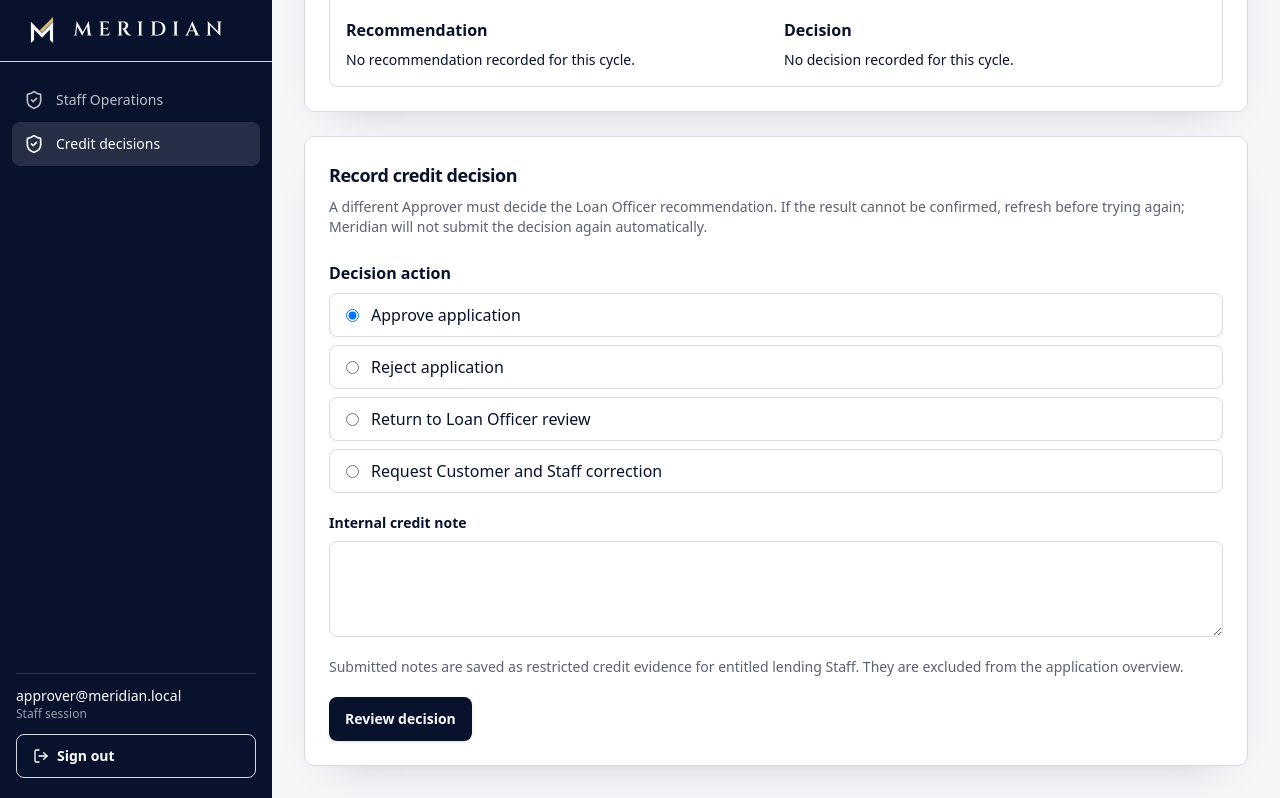
Test: Staff decision workspace › shows linked earlier cycles separately while confirming only the current expected identities
The width and height of the screenshot is (1280, 798).
(page scrolled)
Click the button "Review decision" at (400, 719), box [329,697,472,741]
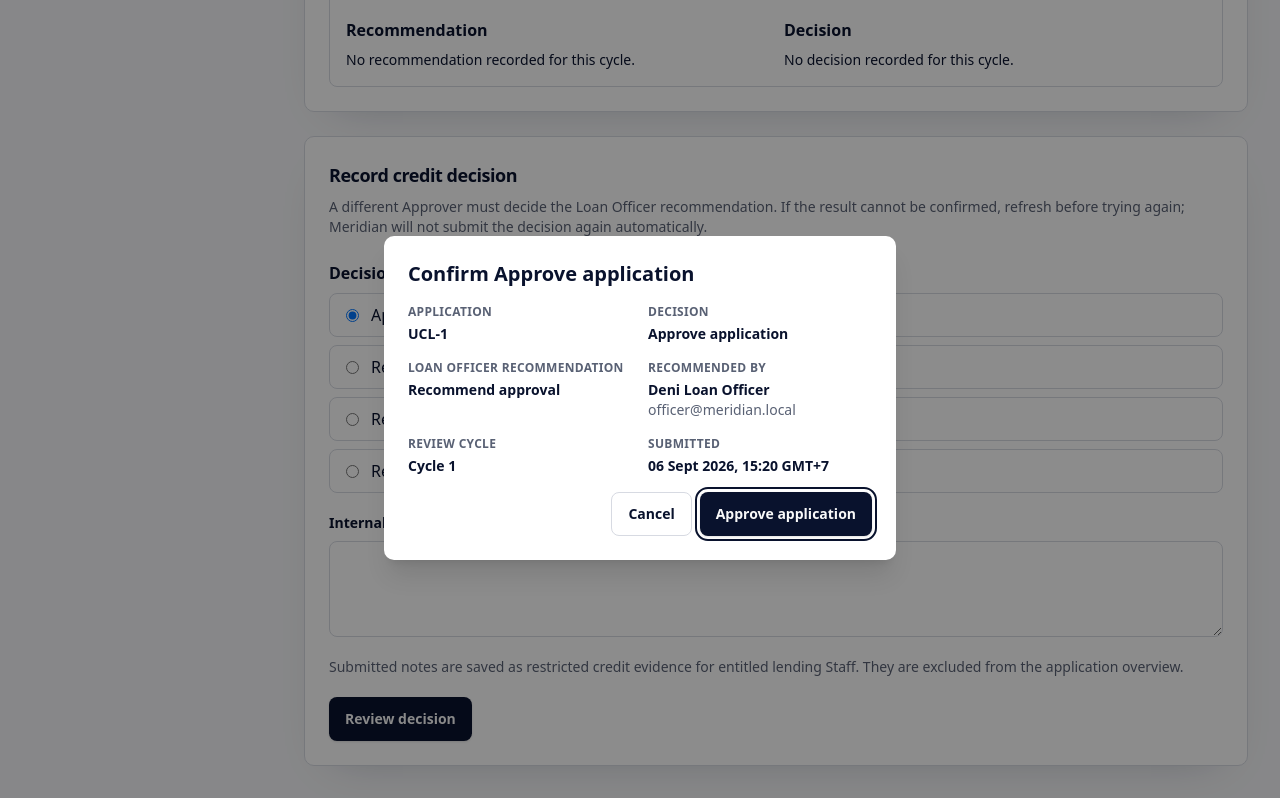
Result: the text "Cycle 1" is shown at [408,456,456,475]
